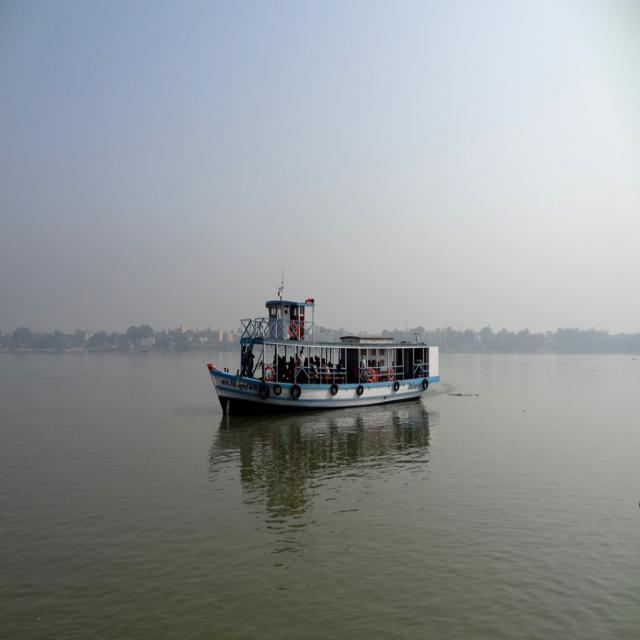fishing boat: (205, 275, 446, 409)
